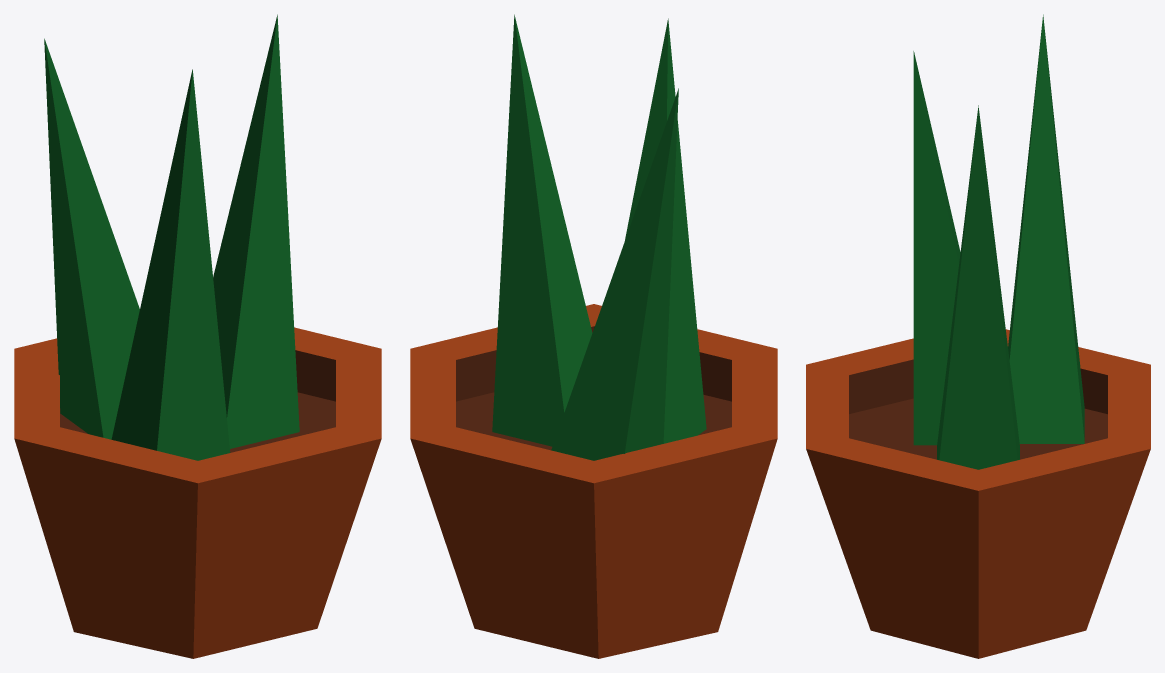
Rendered from plant_pot.gltf.
3 renders of one model, left to right at view 1: azimuth 30°, elevation 25°; view 2: azimuth 150°, elevation 25°; view 3: azimuth 270°, elevation 25°, orthographic. The views are drawn at different scales.
Visible parts, largest first — view 1: cylinder, pyramid (×3); view 2: cylinder, pyramid (×3); view 3: cylinder, pyramid (×3).
Part boxes in pixels (left/top/right/bottom): cylinder: left=14, top=327, right=381, bottom=658; pyramid (×3): left=44, top=14, right=299, bottom=460; cylinder: left=410, top=304, right=777, bottom=658; pyramid (×3): left=492, top=14, right=706, bottom=460; cylinder: left=806, top=329, right=1150, bottom=658; pyramid (×3): left=913, top=14, right=1084, bottom=469.
Size of the model in its own units: 1.15 by 1.71 by 1.
2 materials, 2 textured.
